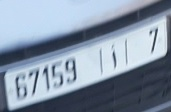1: (41, 62, 51, 94)
5: (51, 58, 64, 89)
6: (14, 71, 29, 100)
7: (147, 24, 160, 55), (28, 68, 40, 98)
9: (64, 56, 79, 86)
a: (107, 42, 121, 70)
